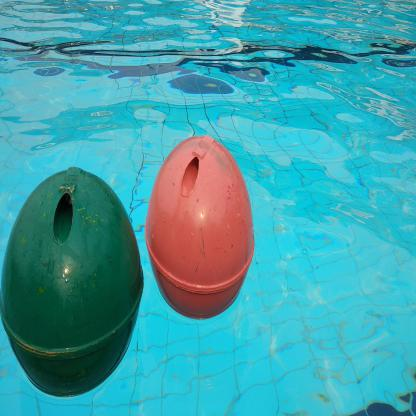green_buoy: (2, 158, 145, 408)
red_buoy: (144, 121, 262, 320)
